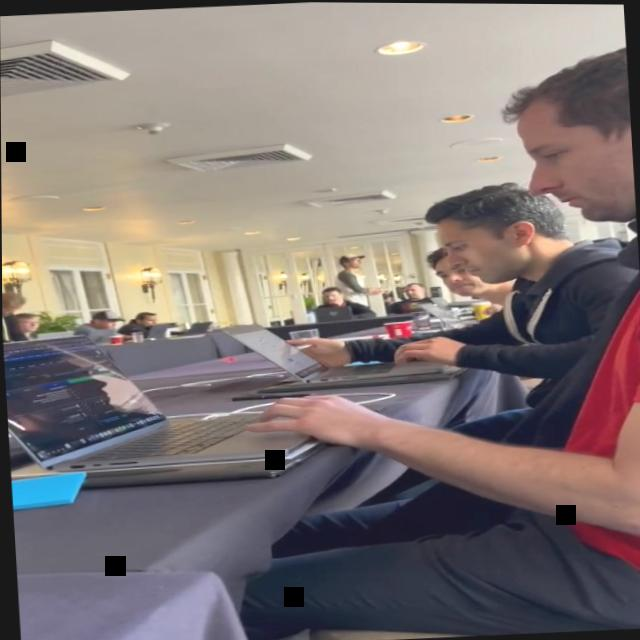NO-Mask: (516, 101, 636, 227), (435, 216, 527, 286), (433, 255, 492, 297), (20, 316, 40, 333), (323, 288, 342, 304), (2, 302, 20, 317), (347, 256, 365, 270), (405, 284, 422, 298), (143, 313, 159, 326), (102, 318, 119, 329)
